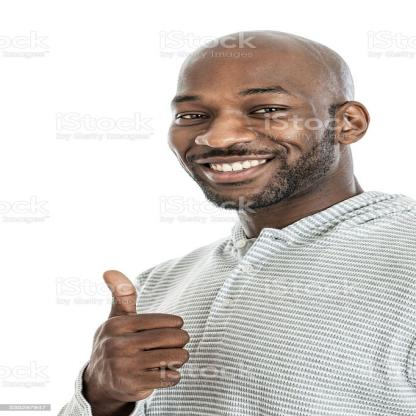Thumbs-Up: (97, 268, 192, 398)
